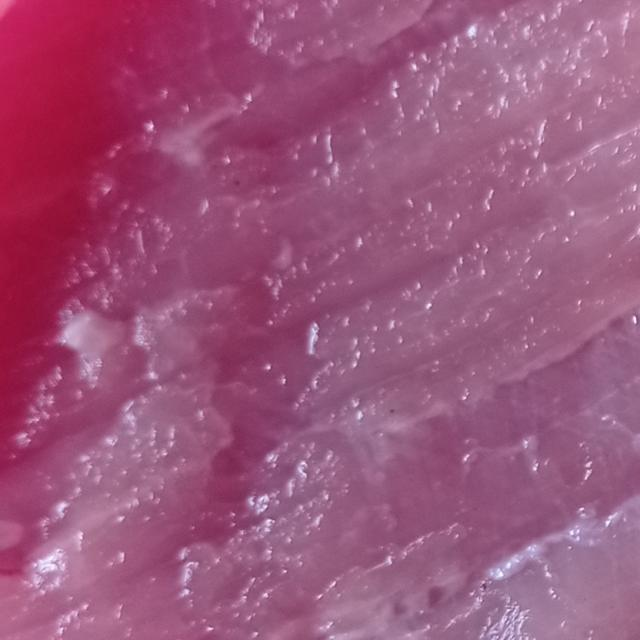pork: (1, 3, 640, 639)
